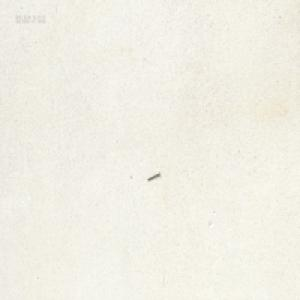Bolt: (147, 171, 160, 181)
